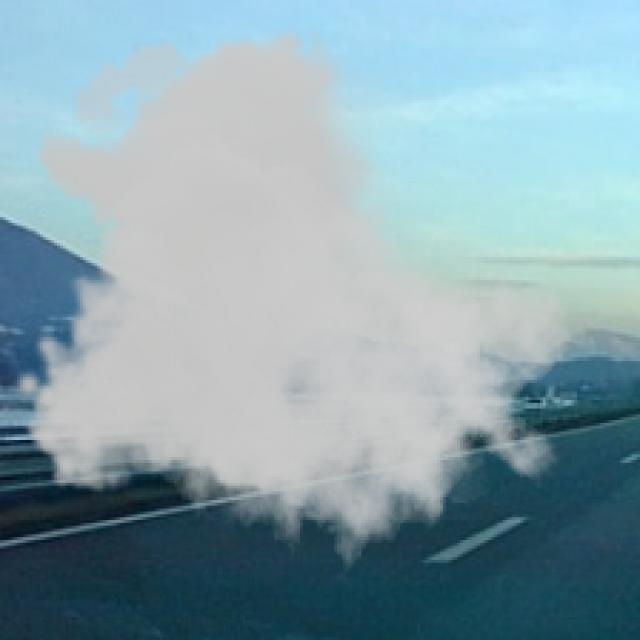smoke: (12, 26, 574, 588)
